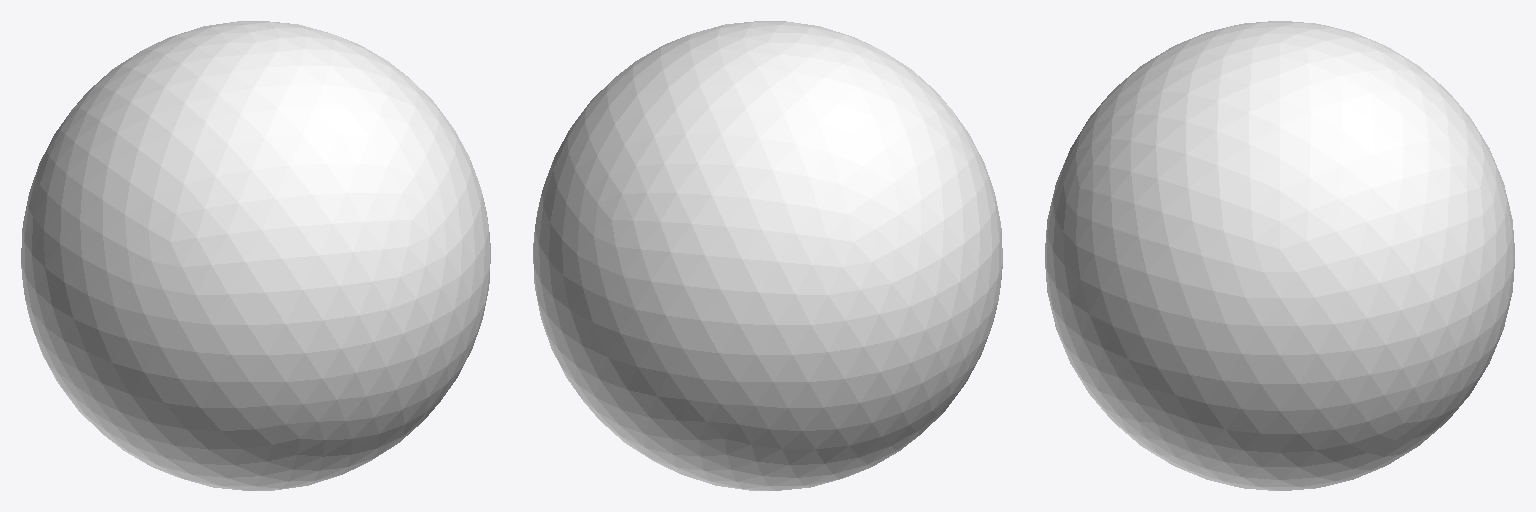
The model's file is icospherehp.obj.
3 renders of one model, left to right at view 1: azimuth 30°, elevation 25°; view 2: azimuth 150°, elevation 25°; view 3: azimuth 270°, elevation 25°, orthographic.
Visible parts, largest first — view 1: Icosphere_Icosphere.001; view 2: Icosphere_Icosphere.001; view 3: Icosphere_Icosphere.001.
Part boxes in pixels (x1,y1,x2,y2): Icosphere_Icosphere.001: (21,21,490,490); Icosphere_Icosphere.001: (533,21,1002,490); Icosphere_Icosphere.001: (1045,21,1514,490).
Bounding box in the file's own units: 2 × 2 × 2.